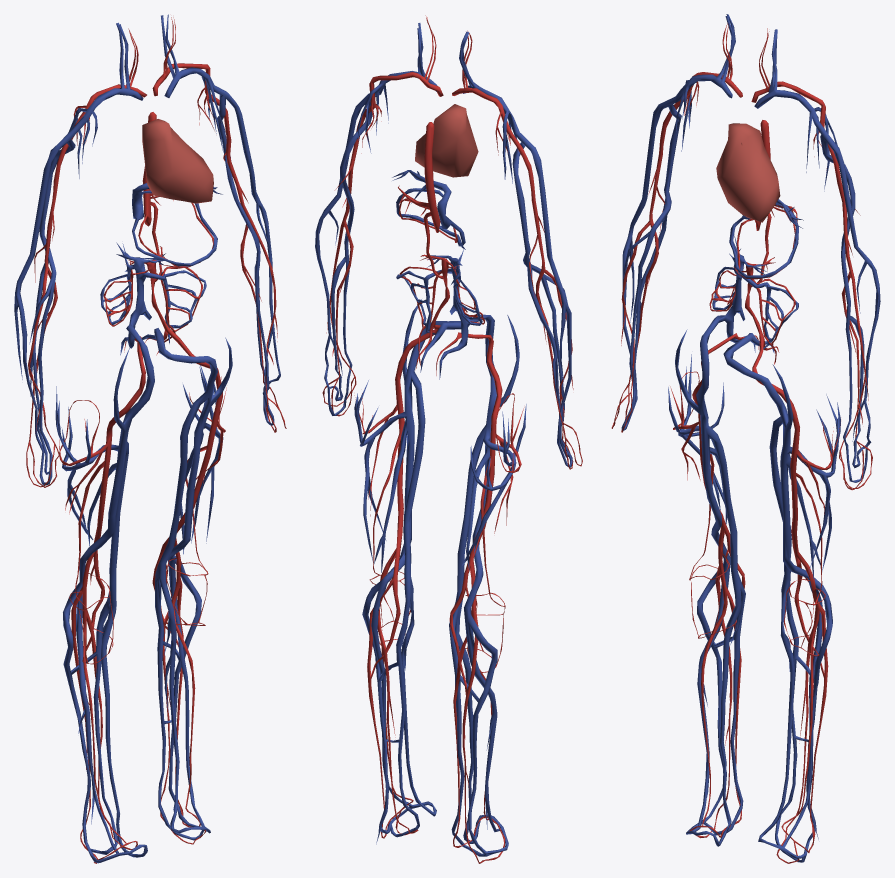
Rendered from pediatric_adolescent_female.cardiovascular.LOD3.glb.
3 renders of one model, left to right at view 1: azimuth 30°, elevation 25°; view 2: azimuth 150°, elevation 25°; view 3: azimuth 330°, elevation 25°, orthographic.
Parts seen in each view (by area): view 1: PEDIATRIC.ADOLESCENT.FEMALE.CARDIOVASCULAR.BLOOD_IN_LARGE_VE, PEDIATRIC.ADOLESCENT.FEMALE.CARDIOVASCULAR.BLOOD_IN_LARGE_AR, PEDIATRIC.ADOLESCENT.FEMALE.CARDIOVASCULAR.HEART_WALL; view 2: PEDIATRIC.ADOLESCENT.FEMALE.CARDIOVASCULAR.BLOOD_IN_LARGE_VE, PEDIATRIC.ADOLESCENT.FEMALE.CARDIOVASCULAR.BLOOD_IN_LARGE_AR, PEDIATRIC.ADOLESCENT.FEMALE.CARDIOVASCULAR.HEART_WALL; view 3: PEDIATRIC.ADOLESCENT.FEMALE.CARDIOVASCULAR.BLOOD_IN_LARGE_VE, PEDIATRIC.ADOLESCENT.FEMALE.CARDIOVASCULAR.BLOOD_IN_LARGE_AR, PEDIATRIC.ADOLESCENT.FEMALE.CARDIOVASCULAR.HEART_WALL.
Part boxes in pixels (bbox=[...]): PEDIATRIC.ADOLESCENT.FEMALE.CARDIOVASCULAR.BLOOD_IN_LARGE_VE: bbox=[14, 14, 280, 863]; PEDIATRIC.ADOLESCENT.FEMALE.CARDIOVASCULAR.BLOOD_IN_LARGE_AR: bbox=[26, 17, 286, 863]; PEDIATRIC.ADOLESCENT.FEMALE.CARDIOVASCULAR.HEART_WALL: bbox=[142, 119, 213, 203]; PEDIATRIC.ADOLESCENT.FEMALE.CARDIOVASCULAR.BLOOD_IN_LARGE_VE: bbox=[315, 23, 572, 856]; PEDIATRIC.ADOLESCENT.FEMALE.CARDIOVASCULAR.BLOOD_IN_LARGE_AR: bbox=[322, 15, 582, 863]; PEDIATRIC.ADOLESCENT.FEMALE.CARDIOVASCULAR.HEART_WALL: bbox=[415, 104, 478, 177]; PEDIATRIC.ADOLESCENT.FEMALE.CARDIOVASCULAR.BLOOD_IN_LARGE_VE: bbox=[621, 14, 880, 862]; PEDIATRIC.ADOLESCENT.FEMALE.CARDIOVASCULAR.BLOOD_IN_LARGE_AR: bbox=[611, 23, 872, 863]; PEDIATRIC.ADOLESCENT.FEMALE.CARDIOVASCULAR.HEART_WALL: bbox=[716, 123, 780, 222].
Bounding box in the file's own units: 0.4631 × 1.45 × 0.1709.
